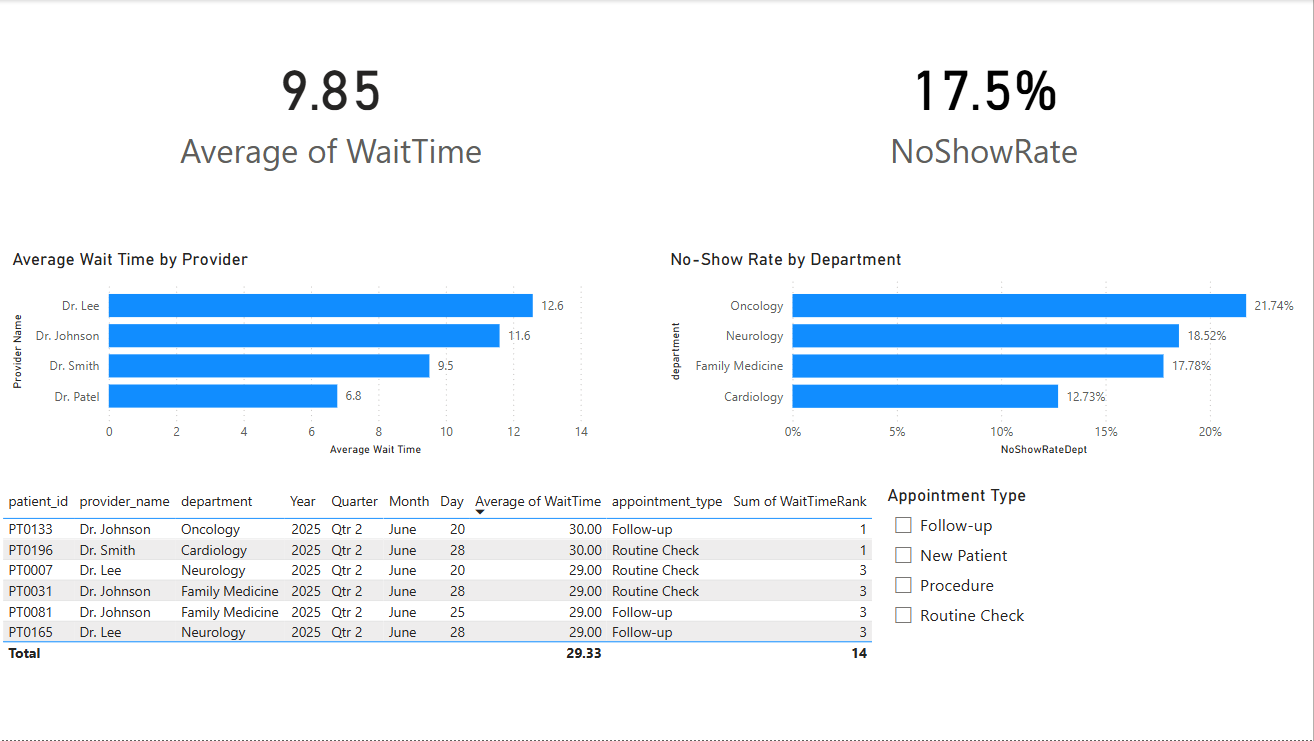

The dashboard page shown, as its layout file describes it:
{"tool":"powerbi","page":{"name":"Page 1","canvas":[1280,720],"ordinal":0},"visuals":[{"type":"card","fields":{"Values":["mock_epic_appointment_data.WaitTime"]},"box":[9.7,0,630.3,205.2],"z":0},{"type":"card","fields":{"Values":["mock_epic_appointment_data.NoShowRate"]},"box":[640,0,640,205.2],"z":1},{"type":"clusteredBarChart","title":"Average Wait Time by Provider","fields":{"Category":["mock_epic_appointment_data.provider_name"],"Y":["mock_epic_appointment_data.AvgWaitTime"]},"box":[10,242.5,630,205],"z":2},{"type":"clusteredBarChart","title":"No-Show Rate by Department","fields":{"Category":["mock_epic_appointment_data.department"],"Y":["mock_epic_appointment_data.NoShowRateDept"]},"box":[649.7,242.2,630.3,205.2],"z":3},{"type":"tableEx","fields":{"Values":["mock_epic_appointment_data.patient_id","mock_epic_appointment_data.provider_name","mock_epic_appointment_data.department","mock_epic_appointment_data.appointment_date.Variation.Date Hierarchy.Year","mock_epic_appointment_data.appointment_date.Variation.Date Hierarchy.Quarter","mock_epic_appointment_data.appointment_date.Variation.Date Hierarchy.Month","mock_epic_appointment_data.appointment_date.Variation.Date Hierarchy.Day","mock_epic_appointment_data.WaitTime","mock_epic_appointment_data.appointment_type","mock_epic_appointment_data.WaitTimeRank"]},"box":[0,471.7,860.8,248],"z":4},{"type":"slicer","title":"Appointment Type","fields":{"Values":["mock_epic_appointment_data.appointment_type"]},"box":[861,472,419,248],"z":5}]}

Visuals, with their boxes in screenshot pixels (x1, y1, x2, y2), scaled from the page's 1280x720 canvas onto the 1314x741 screenshot:
card - mock_epic_appointment_data.WaitTime: [x1=10, y1=0, x2=657, y2=211]
card - mock_epic_appointment_data.NoShowRate: [x1=657, y1=0, x2=1313, y2=211]
"Average Wait Time by Provider" clusteredBarChart: [x1=10, y1=250, x2=657, y2=461]
"No-Show Rate by Department" clusteredBarChart: [x1=667, y1=249, x2=1313, y2=460]
tableEx - mock_epic_appointment_data.patient_id x mock_epic_appointment_data.provider_name: [x1=0, y1=485, x2=884, y2=740]
"Appointment Type" slicer: [x1=884, y1=486, x2=1313, y2=740]
